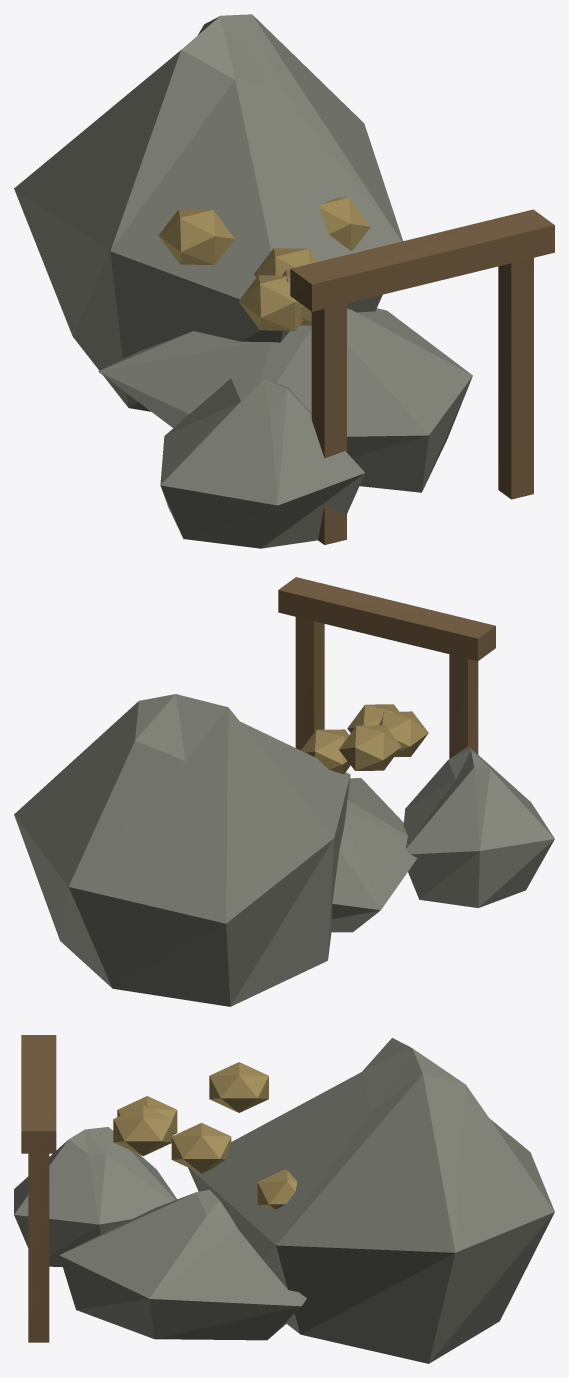
Rendered from gold_deposit-far.glb.
3 views of the same model, one above another, from view 1: azimuth 30°, elevation 25°; view 2: azimuth 150°, elevation 25°; view 3: azimuth 270°, elevation 25° (orthographic). The views are drawn at different scales.
Visible parts, largest first — view 1: world-scenery/gold_deposit-far; view 2: world-scenery/gold_deposit-far; view 3: world-scenery/gold_deposit-far.
Boxes of the visible parts, box(x1,y1,x2,y2) form: world-scenery/gold_deposit-far: box(14, 14, 554, 548); world-scenery/gold_deposit-far: box(14, 577, 554, 1006); world-scenery/gold_deposit-far: box(14, 1035, 554, 1363).
Size of the model in its own units: 2.31 by 1.66 by 3.08.
